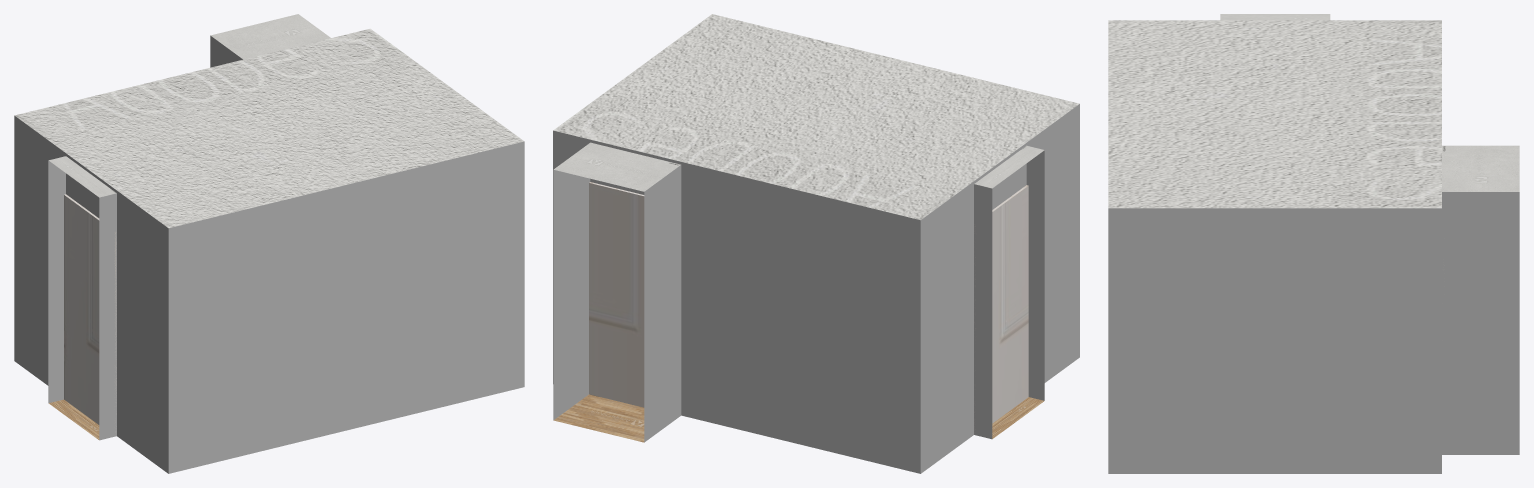
The model's file is Room.fbx.
The picture shows the model from 3 angles, left to right: view 1: azimuth 30°, elevation 25°; view 2: azimuth 150°, elevation 25°; view 3: azimuth 270°, elevation 25°; orthographic projection. The views are drawn at different scales.
Visible parts, largest first — view 1: room2, door2; view 2: room2, door3, door2; view 3: room2.
Boxes of the visible parts, bbox=[...] form: room2: bbox=[14, 14, 524, 473]; door2: bbox=[64, 194, 116, 432]; room2: bbox=[553, 14, 1079, 473]; door3: bbox=[589, 182, 644, 407]; door2: bbox=[974, 185, 1028, 434]; room2: bbox=[1108, 14, 1519, 473].
Bounding box in the file's own units: 3.82 × 2.4 × 3.37.
